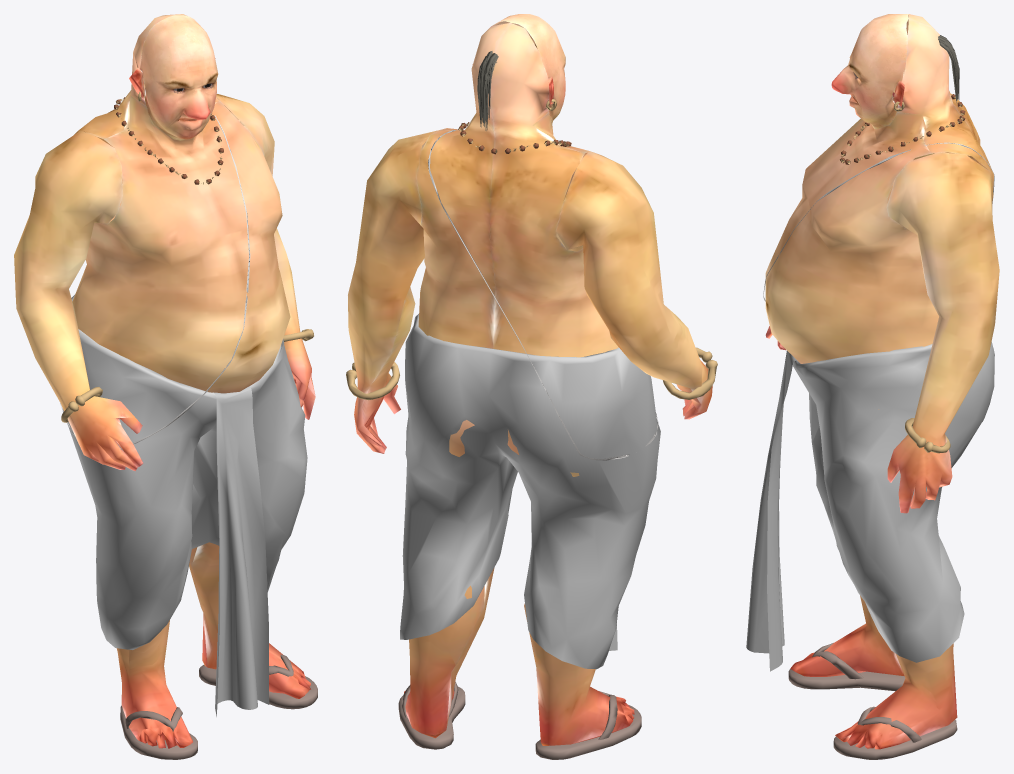
The model's file is stand-1.glb.
The picture shows the model from 3 angles, left to right: view 1: azimuth 30°, elevation 25°; view 2: azimuth 150°, elevation 25°; view 3: azimuth 270°, elevation 25°; orthographic projection. The views are drawn at different scales.
Parts seen in each view (by area): view 1: polySurface1_WithPose:misss_fast_skin_maya3SG1_0, polySurface239_WithPose:lambert4SG1_0, polySurface1_WithPose:misss_fast_skin_maya4SG1_0, polySurface233_WithPose:lambert7SG1_0, polySurface1_WithPose:misss_fast_skin_maya2SG1_0; view 2: polySurface239_WithPose:lambert4SG1_0, polySurface1_WithPose:misss_fast_skin_maya4SG1_0, polySurface1_WithPose:misss_fast_skin_maya3SG1_0, polySurface233_WithPose:lambert7SG1_0, polySurface1_WithPose:misss_fast_skin_maya2SG1_0; view 3: polySurface1_WithPose:misss_fast_skin_maya3SG1_0, polySurface239_WithPose:lambert4SG1_0, polySurface1_WithPose:misss_fast_skin_maya4SG1_0, polySurface233_WithPose:lambert7SG1_0, polySurface1_WithPose:misss_fast_skin_maya2SG1_0, polySurface238_WithPose:blinn6SG1_0.
Boxes of the visible parts, x1,y1,x2,y2 form: polySurface1_WithPose:misss_fast_skin_maya3SG1_0: (72,14,290,393); polySurface239_WithPose:lambert4SG1_0: (62,295,307,649); polySurface1_WithPose:misss_fast_skin_maya4SG1_0: (14,94,315,748); polySurface233_WithPose:lambert7SG1_0: (60,91,317,759); polySurface1_WithPose:misss_fast_skin_maya2SG1_0: (140,15,218,140); polySurface239_WithPose:lambert4SG1_0: (400,314,660,669); polySurface1_WithPose:misss_fast_skin_maya4SG1_0: (348,130,712,745); polySurface1_WithPose:misss_fast_skin_maya3SG1_0: (416,23,618,476); polySurface233_WithPose:lambert7SG1_0: (346,51,717,759); polySurface1_WithPose:misss_fast_skin_maya2SG1_0: (492,14,565,123); polySurface1_WithPose:misss_fast_skin_maya3SG1_0: (765,14,994,409); polySurface239_WithPose:lambert4SG1_0: (793,342,994,662); polySurface1_WithPose:misss_fast_skin_maya4SG1_0: (765,112,999,749); polySurface233_WithPose:lambert7SG1_0: (746,35,994,759); polySurface1_WithPose:misss_fast_skin_maya2SG1_0: (831,14,908,129); polySurface238_WithPose:blinn6SG1_0: (840,94,965,164).
Size of the model in its own units: 0.819 by 1.79 by 0.5999.
10 materials, 10 textured.
